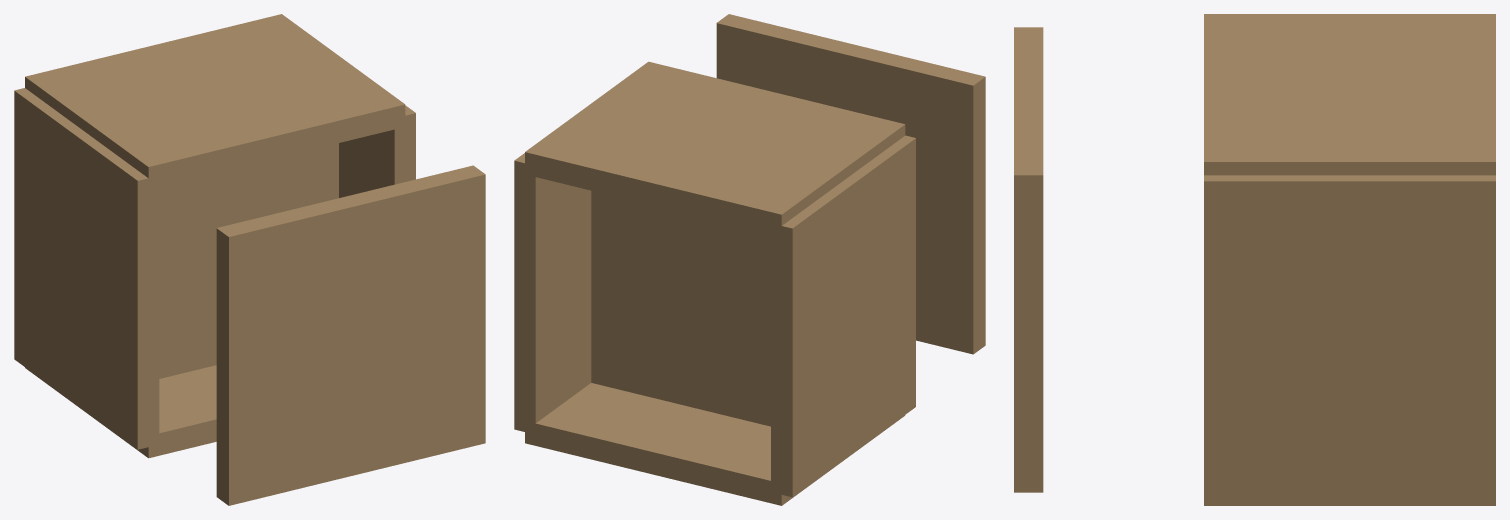
The model's file is wooden_crate_002_v1.glb.
3 renders of one model, left to right at view 1: azimuth 30°, elevation 25°; view 2: azimuth 150°, elevation 25°; view 3: azimuth 270°, elevation 25°, orthographic. The views are drawn at different scales.
Parts seen in each view (by area): view 1: top, side4, side1, base, side2, side3; view 2: side4, side1, base, top, side3, side2; view 3: side3, side1, top, side2.
Boxes of the visible parts, x1=… form: top: x1=216, y1=165, x2=485, y2=505; side4: x1=14, y1=88, x2=159, y2=449; side1: x1=25, y1=14, x2=405, y2=189; base: x1=159, y1=143, x2=338, y2=378; side2: x1=25, y1=365, x2=216, y2=458; side3: x1=339, y1=105, x2=415, y2=197; side4: x1=771, y1=135, x2=915, y2=497; side1: x1=525, y1=61, x2=905, y2=236; base: x1=591, y1=190, x2=770, y2=426; top: x1=716, y1=14, x2=985, y2=354; side3: x1=514, y1=153, x2=591, y2=434; side2: x1=525, y1=383, x2=905, y2=505; side3: x1=1204, y1=175, x2=1495, y2=498; side1: x1=1204, y1=14, x2=1495, y2=175; top: x1=1014, y1=27, x2=1043, y2=492; side2: x1=1204, y1=499, x2=1495, y2=505.
Size of the model in its own units: 65 by 65 by 82.5.
